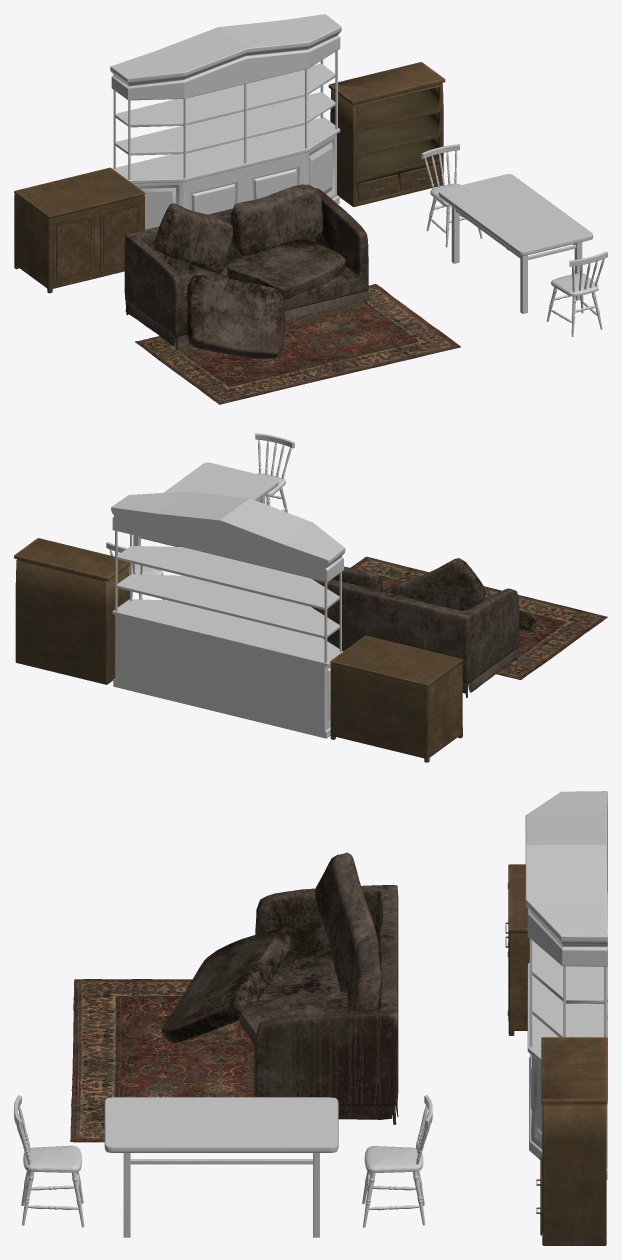
File: OldFurniturePack_new.fbx
3 renders of one model, top to bottom at view 1: azimuth 30°, elevation 25°; view 2: azimuth 150°, elevation 25°; view 3: azimuth 270°, elevation 25°, orthographic. The views are drawn at different scales.
Visible parts, largest first — view 1: WoodenShelf_04, Couch, Carpet_01, WoodenShelf_02, Table_02, WoodenShelf_01, CabinetDoor_L, CabinetDoor_R, Chair_03, Chair_01, Drawr_01, Drawr_04; view 2: WoodenShelf_04, Couch, WoodenShelf_01, WoodenShelf_02, Carpet_01, Table_02, Chair_03, Chair_01; view 3: Couch, WoodenShelf_04, Carpet_01, Table_02, WoodenShelf_02, WoodenShelf_01, Chair_01, Chair_03.
Boxes of the visible parts, bbox=[...] form: WoodenShelf_04: bbox=[110, 14, 341, 229]; Couch: bbox=[124, 184, 368, 358]; Carpet_01: bbox=[135, 284, 460, 404]; WoodenShelf_02: bbox=[328, 62, 445, 206]; Table_02: bbox=[438, 174, 593, 313]; WoodenShelf_01: bbox=[14, 167, 145, 293]; CabinetDoor_L: bbox=[53, 213, 93, 284]; CabinetDoor_R: bbox=[100, 202, 141, 272]; Chair_03: bbox=[546, 251, 607, 336]; Chair_01: bbox=[421, 144, 482, 247]; Drawr_01: bbox=[358, 174, 397, 201]; Drawr_04: bbox=[399, 164, 439, 191]; WoodenShelf_04: bbox=[111, 491, 345, 738]; Couch: bbox=[311, 558, 536, 697]; WoodenShelf_01: bbox=[330, 635, 462, 762]; WoodenShelf_02: bbox=[14, 538, 129, 684]; Carpet_01: bbox=[350, 556, 607, 679]; Table_02: bbox=[133, 462, 278, 546]; Chair_03: bbox=[255, 433, 294, 512]; Chair_01: bbox=[106, 542, 164, 600]; Couch: bbox=[162, 852, 398, 1124]; WoodenShelf_04: bbox=[525, 791, 607, 1179]; Carpet_01: bbox=[70, 979, 254, 1142]; Table_02: bbox=[104, 1097, 338, 1237]; WoodenShelf_02: bbox=[541, 1037, 607, 1245]; WoodenShelf_01: bbox=[508, 864, 529, 1035]; Chair_01: bbox=[362, 1095, 432, 1227]; Chair_03: bbox=[14, 1095, 84, 1227].
Bounding box in the file's own units: 608 × 274 × 553.
